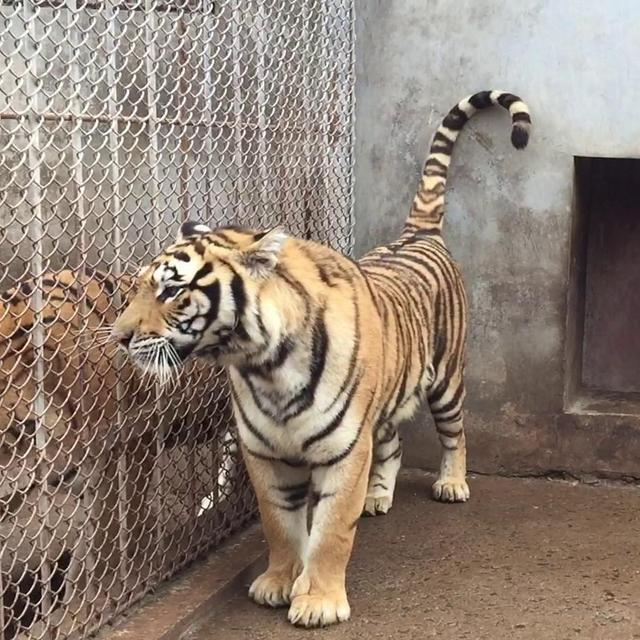tiger: (104, 87, 532, 628), (0, 265, 239, 638)
